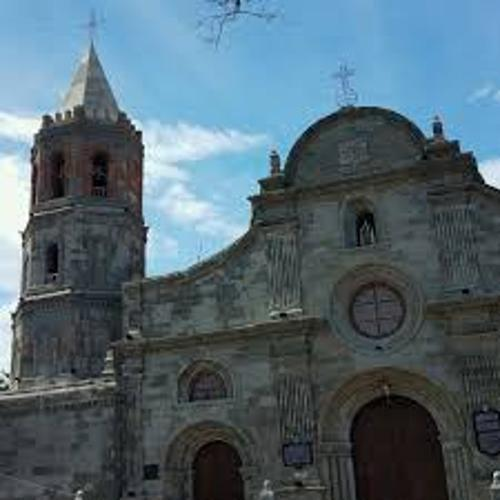Barasoain Church: (7, 7, 500, 500)
